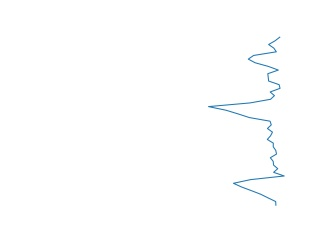underwaterNaturalLevee: (207, 37, 287, 206)
